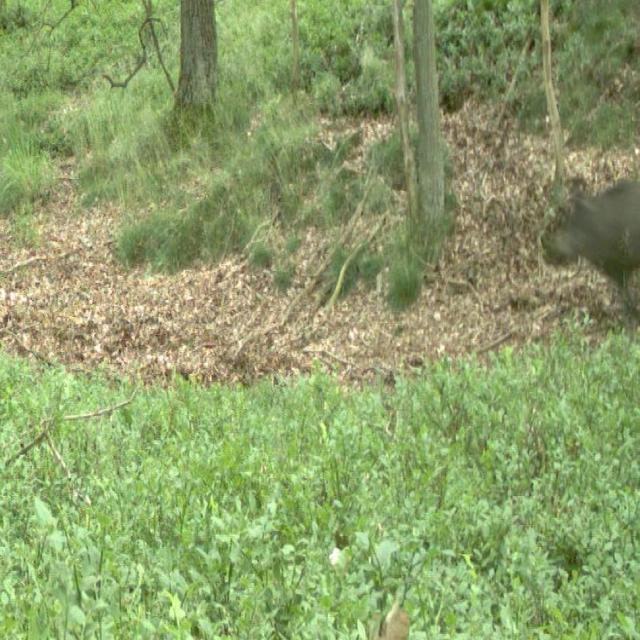pig: (510, 130, 640, 316)
